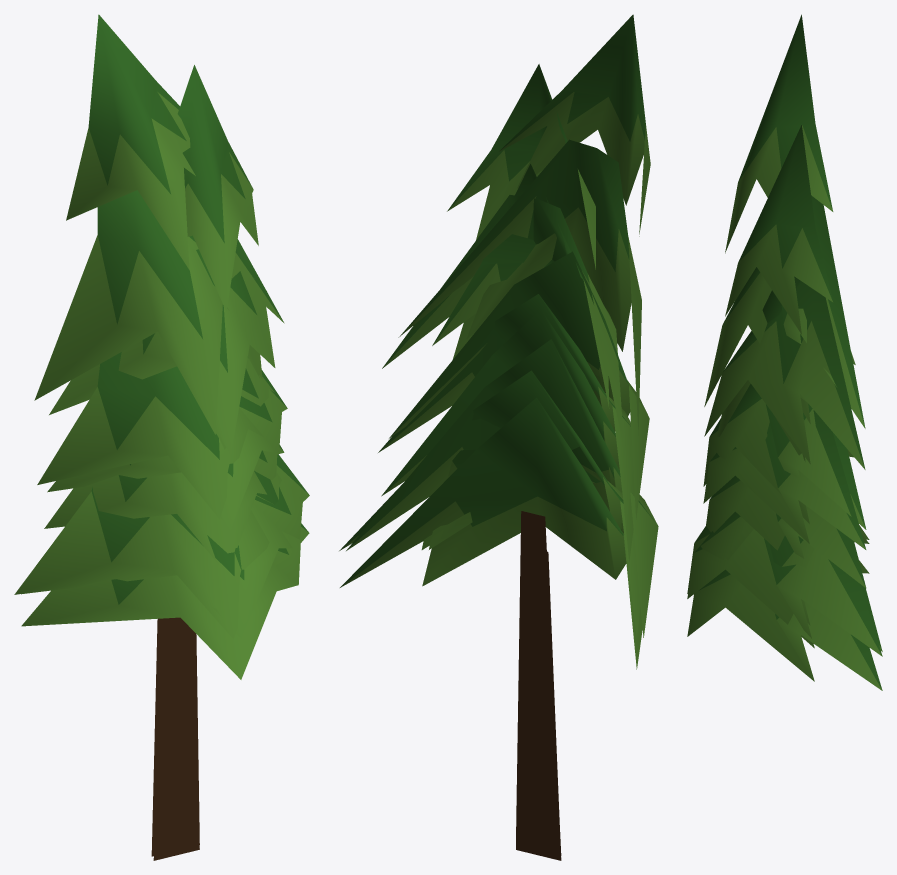
The model's file is pinetrees_LOD.fbx.
3 renders of one model, left to right at view 1: azimuth 30°, elevation 25°; view 2: azimuth 150°, elevation 25°; view 3: azimuth 270°, elevation 25°, orthographic. The views are drawn at different scales.
Parts seen in each view (by area): view 1: Plane.001, Plane, Plane.002; view 2: Plane.001, Plane.002, Plane; view 3: Plane, Plane.001, Plane.002.
Boxes of the visible parts, bbox=[...] form: Plane.001: bbox=[14, 14, 281, 856]; Plane: bbox=[21, 65, 309, 844]; Plane.002: bbox=[21, 249, 309, 860]; Plane.001: bbox=[346, 14, 658, 637]; Plane.002: bbox=[340, 164, 642, 860]; Plane: bbox=[339, 64, 640, 855]; Plane: bbox=[687, 125, 882, 656]; Plane.001: bbox=[687, 14, 882, 651]; Plane.002: bbox=[687, 276, 882, 690].
Size of the model in its own units: 241 by 660 by 147.
